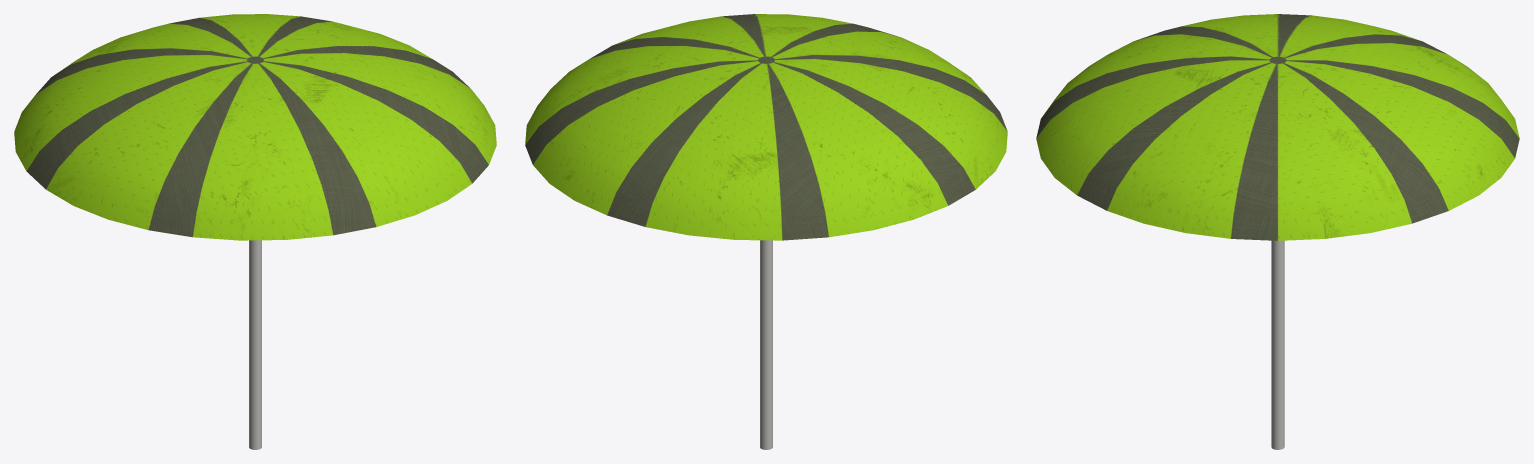
The model's file is parasol.glb.
3 views of the same model, side by side, from view 1: azimuth 30°, elevation 25°; view 2: azimuth 150°, elevation 25°; view 3: azimuth 270°, elevation 25° (orthographic).
Parts seen in each view (by area): view 1: Sphere; view 2: Sphere; view 3: Sphere.
Part boxes in pixels (box(x1,y1,x2,y2)): Sphere: box(14, 14, 496, 449); Sphere: box(525, 14, 1007, 449); Sphere: box(1036, 14, 1519, 449).
Size of the model in its own units: 263 by 232 by 263.
Materials: 1 (1 with a texture image).
